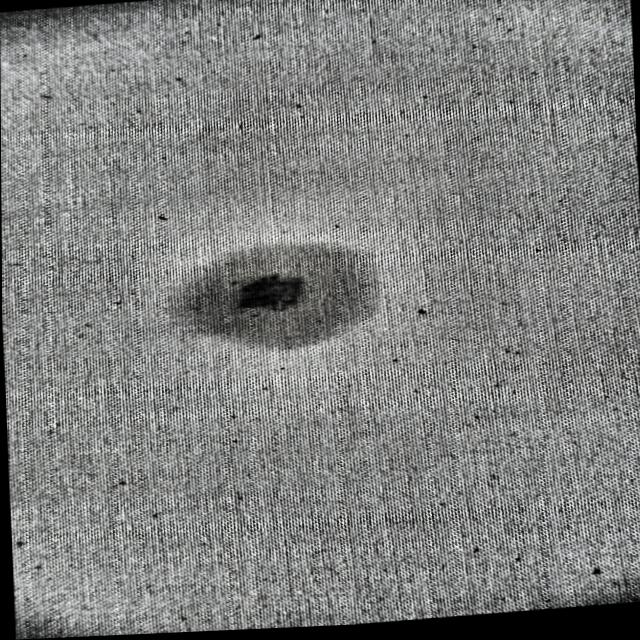Hole: (181, 243, 384, 351), (231, 274, 304, 316)
